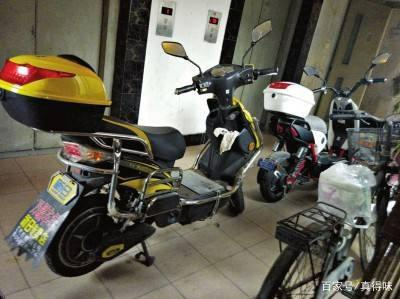non-vehicle: (1, 54, 270, 277), (257, 73, 383, 197)
